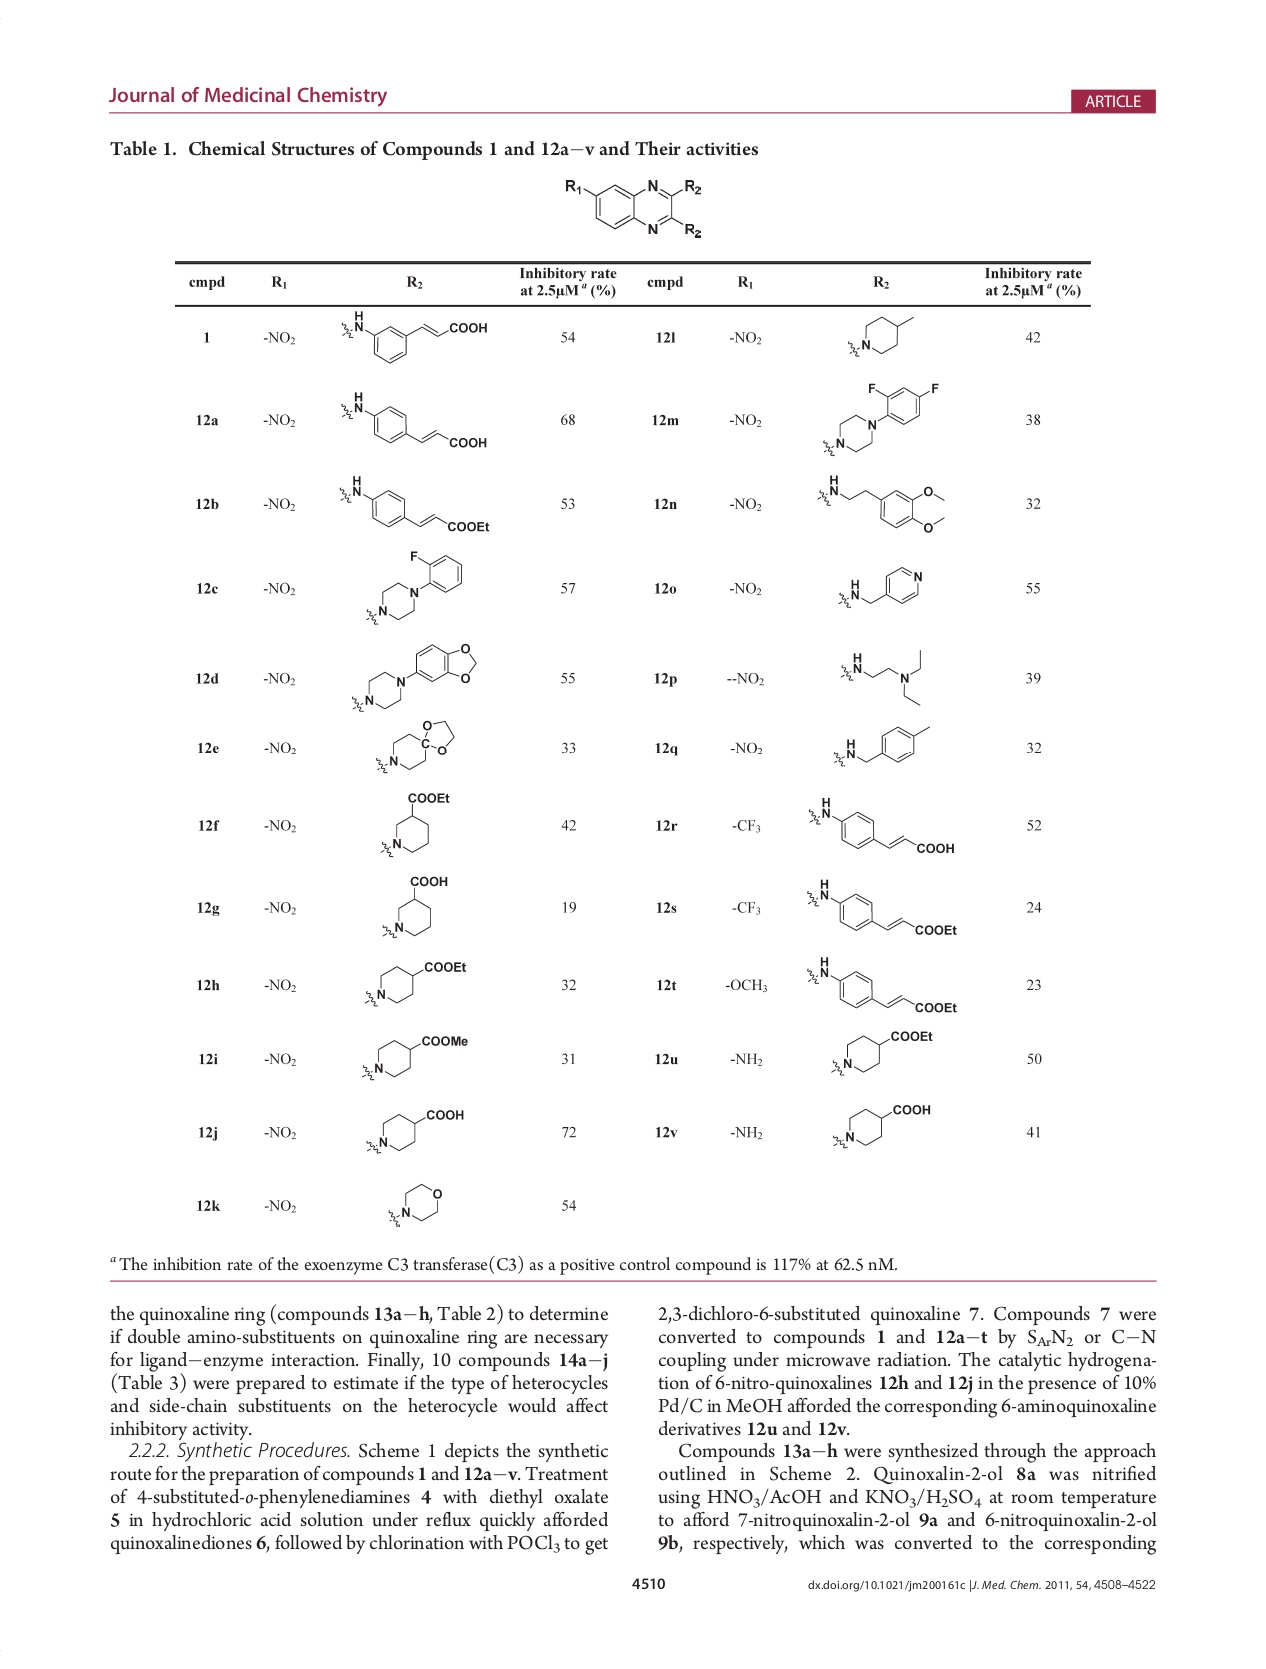exist_molecular: (561, 169, 706, 243), (801, 874, 961, 940), (336, 384, 489, 453), (347, 637, 479, 715), (336, 473, 493, 539), (803, 952, 959, 1017), (819, 379, 942, 460), (803, 794, 959, 856), (814, 469, 948, 535), (339, 309, 489, 364), (363, 548, 463, 626), (824, 1024, 934, 1079), (359, 955, 468, 1009), (835, 645, 928, 707), (358, 1032, 469, 1084), (828, 1100, 934, 1152), (378, 787, 452, 860), (360, 1106, 465, 1154), (372, 718, 457, 777), (828, 722, 934, 769), (379, 872, 449, 942), (832, 563, 926, 614), (844, 314, 916, 360), (383, 1180, 444, 1230)
